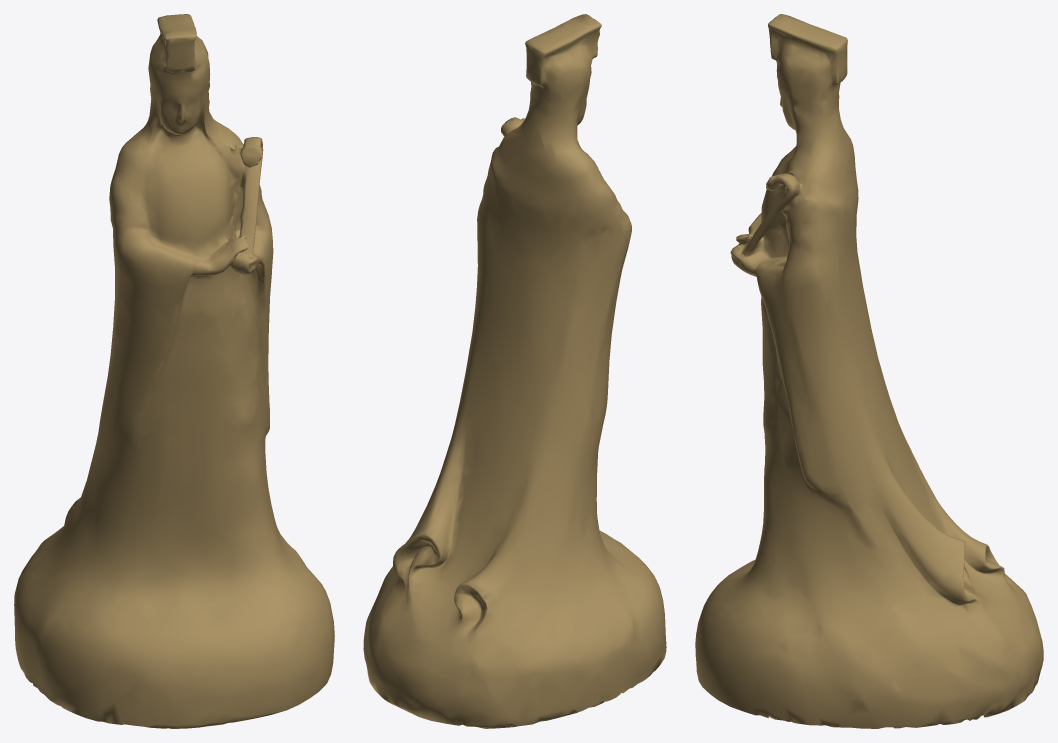
3 renders of one model, left to right at view 1: azimuth 30°, elevation 25°; view 2: azimuth 150°, elevation 25°; view 3: azimuth 270°, elevation 25°, orthographic. The views are drawn at different scales.
Visible parts, largest first — view 1: SY-妈祖; view 2: SY-妈祖; view 3: SY-妈祖.
Boxes of the visible parts, x1,y1,x2,y2 form: SY-妈祖: (14,14,334,728); SY-妈祖: (363,14,666,728); SY-妈祖: (695,14,1043,728).
Size of the model in its own units: 0.1646 by 0.1952 by 0.3981.
